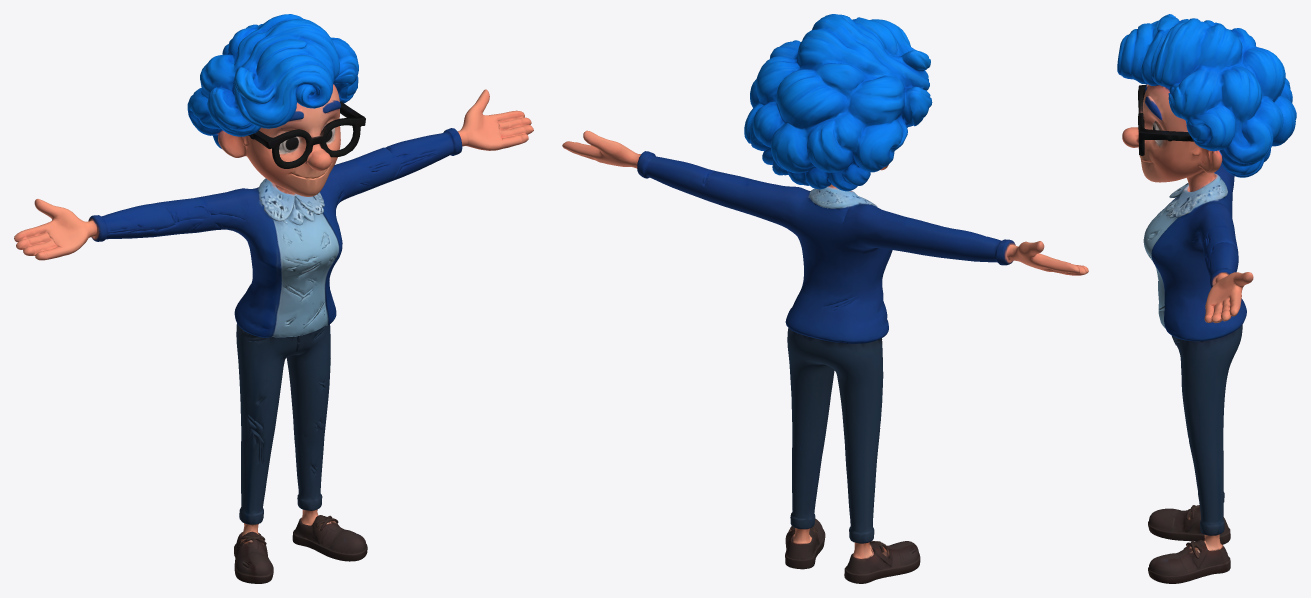
File: mrs_doily.glb
3 renders of one model, left to right at view 1: azimuth 30°, elevation 25°; view 2: azimuth 150°, elevation 25°; view 3: azimuth 270°, elevation 25°, orthographic.
Parts seen in each view (by area): view 1: mrs_doily; view 2: mrs_doily; view 3: mrs_doily.
Boxes of the visible parts, box(x1,y1,x2,y2) form: mrs_doily: box(14, 14, 533, 583); mrs_doily: box(562, 14, 1088, 583); mrs_doily: box(1117, 14, 1296, 583).
Size of the model in its own units: 1.76 by 1.75 by 0.5331.
1 material, 1 textured.
